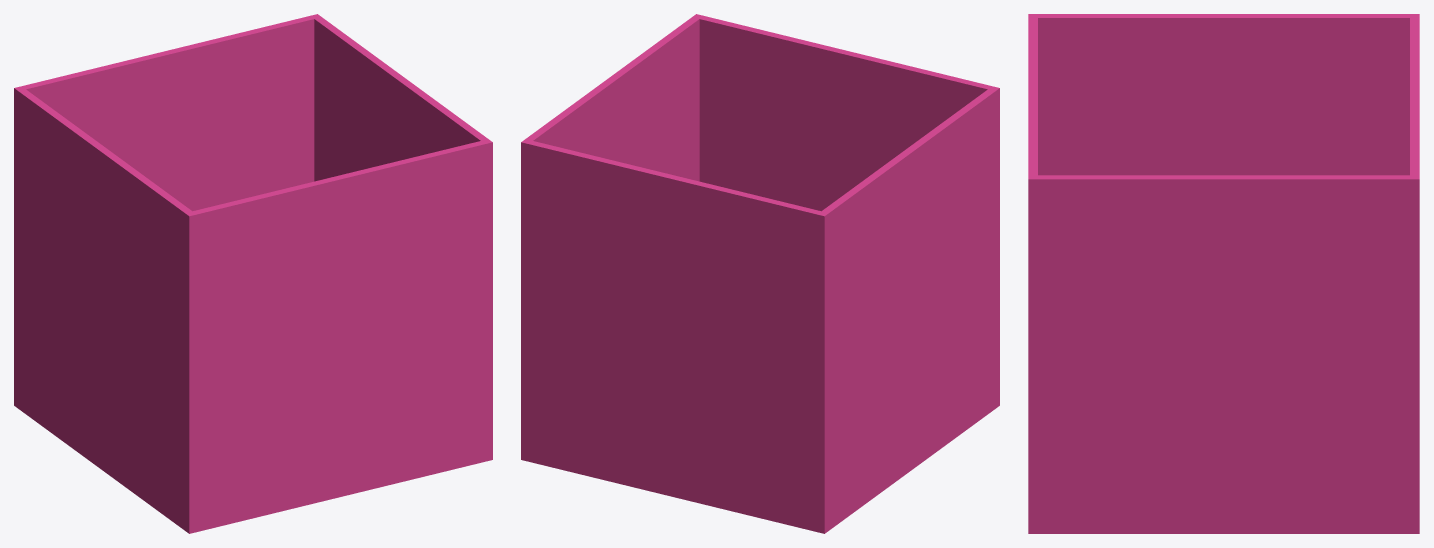
File: squared-walls.glb
3 renders of one model, left to right at view 1: azimuth 30°, elevation 25°; view 2: azimuth 150°, elevation 25°; view 3: azimuth 270°, elevation 25°, orthographic. The views are drawn at different scales.
Visible parts, largest first — view 1: Куб; view 2: Куб; view 3: Куб.
Boxes of the visible parts, x1,y1,x2,y2 form: Куб: [14, 14, 492, 533]; Куб: [521, 14, 999, 533]; Куб: [1028, 14, 1419, 533].
Size of the model in its own units: 2 by 2 by 2.
